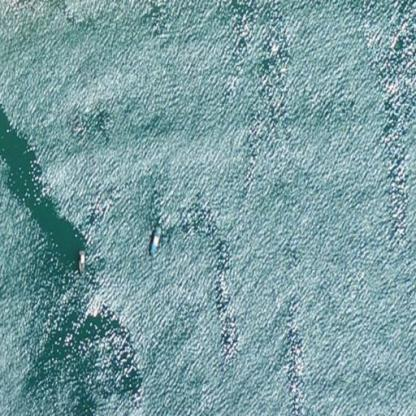ship: (70, 244, 92, 282), (141, 223, 164, 259)
